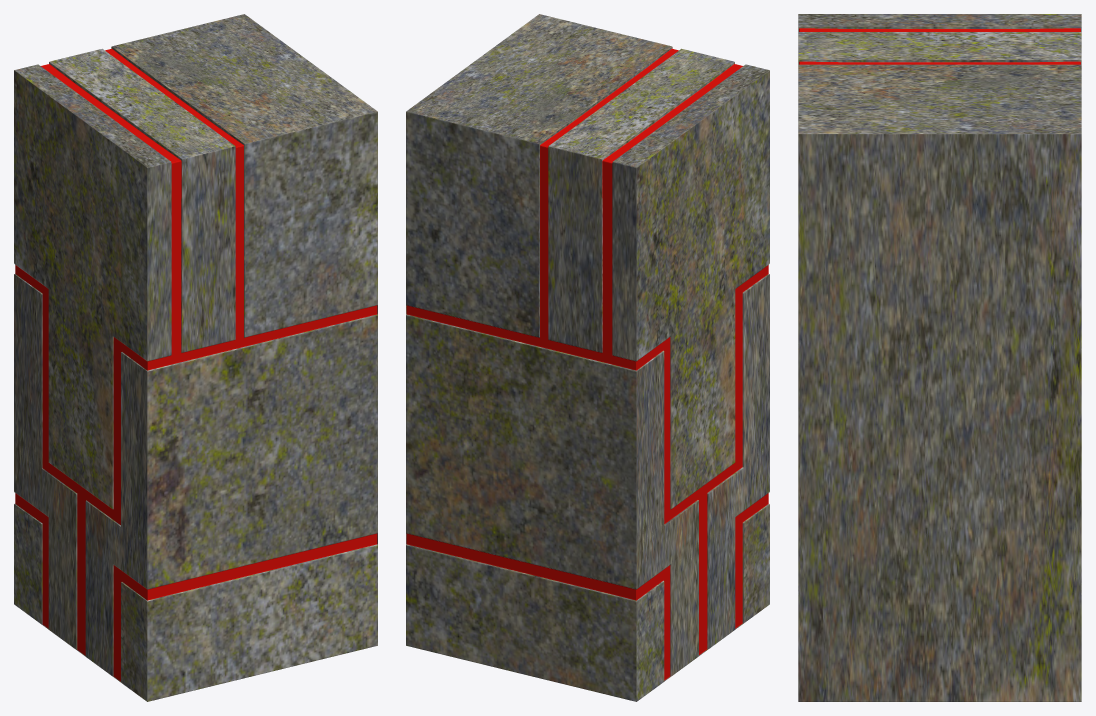
Rendered from level2endblock.fbx.
The picture shows the model from 3 angles, left to right: view 1: azimuth 30°, elevation 25°; view 2: azimuth 150°, elevation 25°; view 3: azimuth 270°, elevation 25°; orthographic projection. The views are drawn at different scales.
Parts seen in each view (by area): view 1: Cube.051; view 2: Cube.051; view 3: Cube.051.
Part boxes in pixels (x1,y1,x2,y2): Cube.051: (14,14,377,701); Cube.051: (406,14,769,701); Cube.051: (798,14,1081,701).
Bounding box in the file's own units: 1438 × 3182 × 1438.
